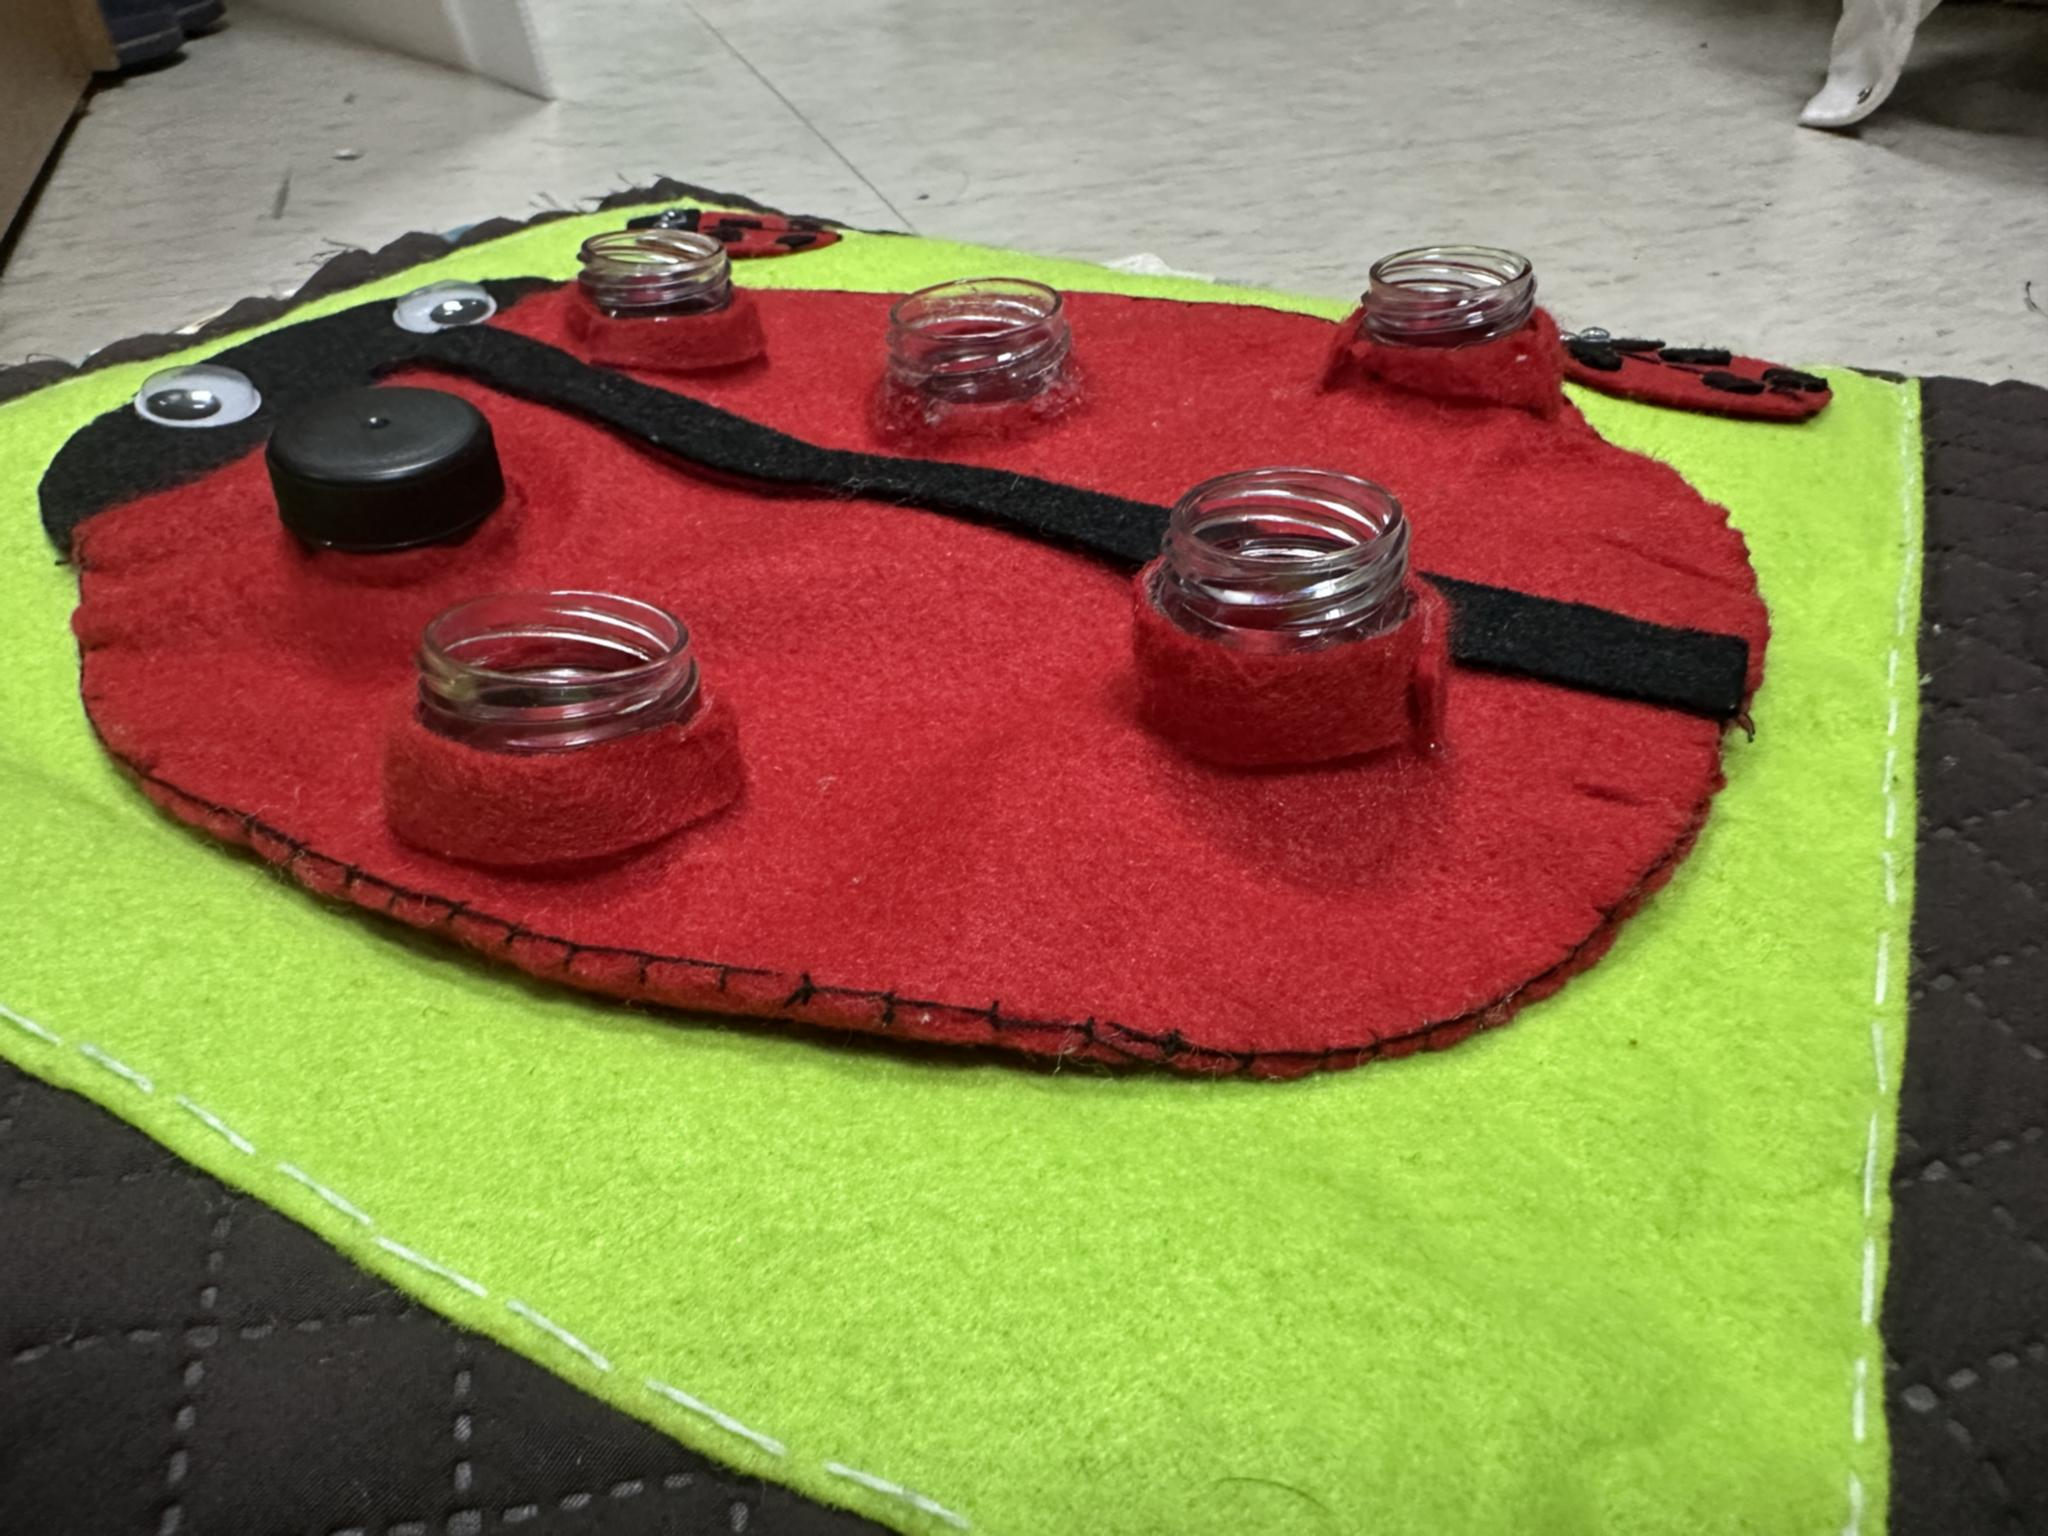cap_ok: (239, 366, 540, 584)
